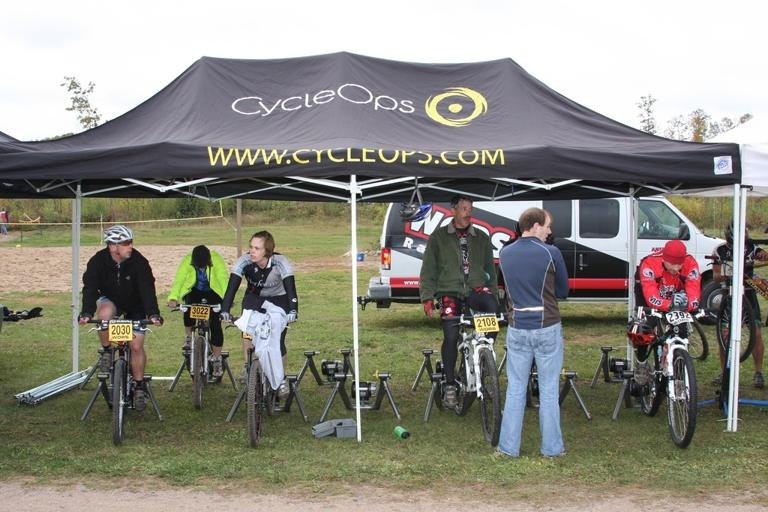non-vehicle: (628, 306, 721, 448), (218, 308, 297, 450), (81, 309, 160, 445), (441, 299, 512, 446), (164, 298, 235, 410), (704, 253, 763, 364), (654, 301, 708, 362)
